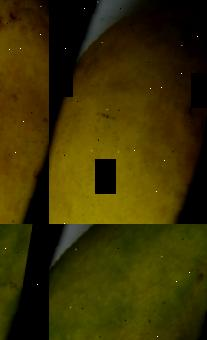PartiallyRipe: (49, 224, 207, 340), (0, 224, 49, 340)
Ripe: (49, 0, 207, 224), (0, 0, 49, 224)
